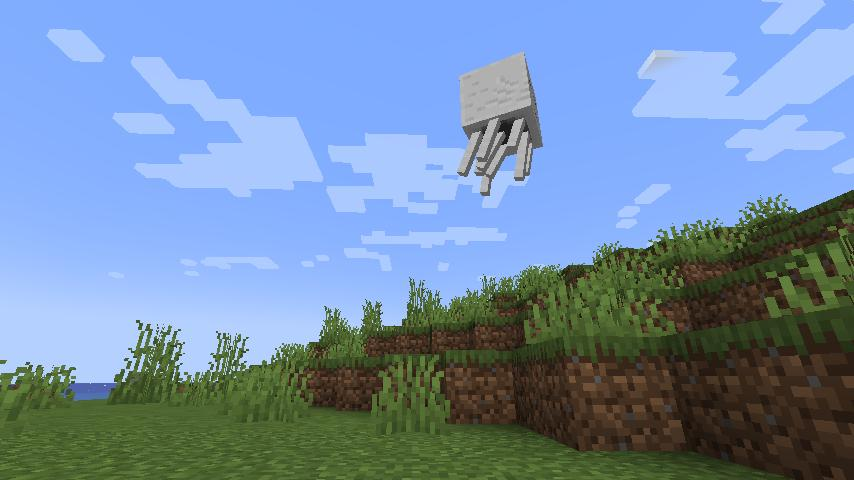ghast: (452, 50, 545, 199)
